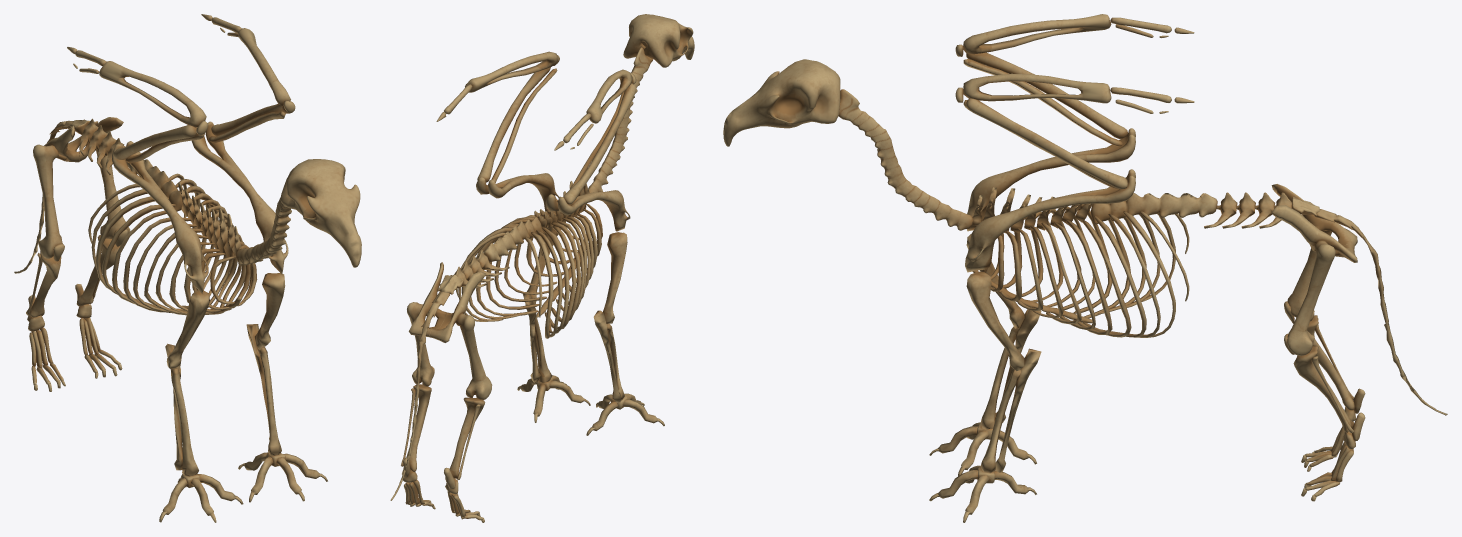
File: Grifoso.glb
The picture shows the model from 3 angles, left to right: view 1: azimuth 30°, elevation 25°; view 2: azimuth 150°, elevation 25°; view 3: azimuth 270°, elevation 25°; orthographic projection. The views are drawn at different scales.
Parts seen in each view (by area): view 1: Griffoso; view 2: Griffoso; view 3: Griffoso.
Boxes of the visible parts, box(x1,y1,x2,y2) form: Griffoso: box(14, 14, 361, 522); Griffoso: box(390, 14, 694, 522); Griffoso: box(723, 14, 1447, 522).
Bounding box in the file's own units: 82.83 × 192 × 292.
1 material, 1 textured.
